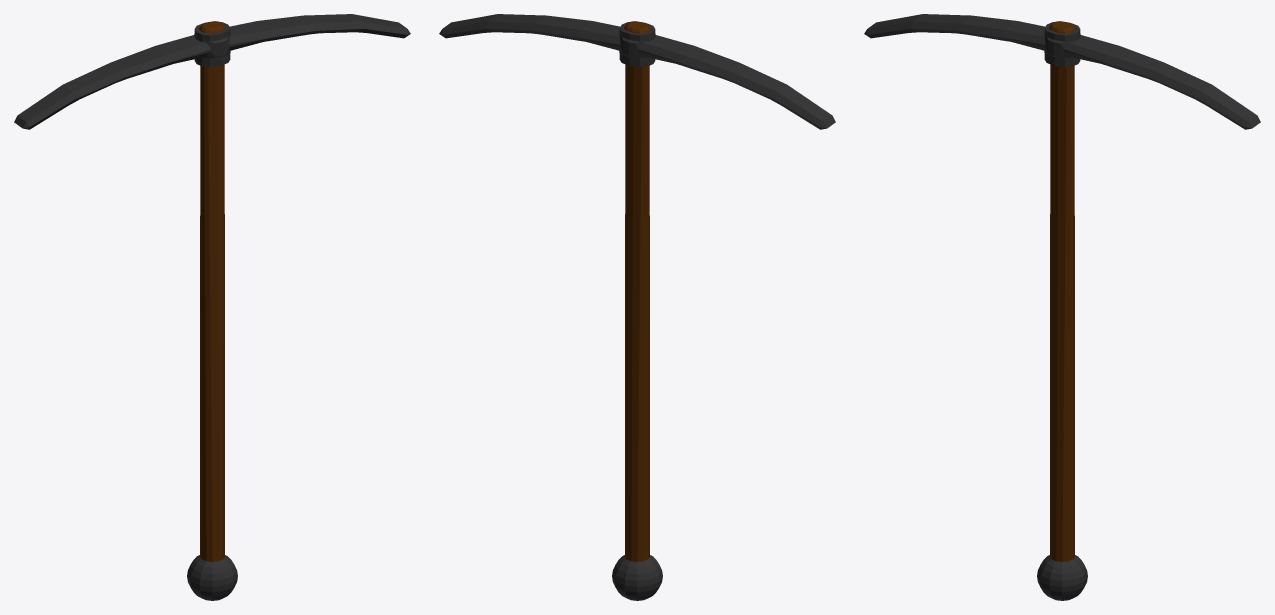
File: MetalPickaxe.fbx
The picture shows the model from 3 angles, left to right: view 1: azimuth 30°, elevation 25°; view 2: azimuth 150°, elevation 25°; view 3: azimuth 330°, elevation 25°; orthographic projection.
Visible parts, largest first — view 1: Sphere; view 2: Sphere; view 3: Sphere.
Part boxes in pixels (box(x1,y1,x2,y2)): Sphere: box(14, 14, 410, 600); Sphere: box(439, 14, 835, 600); Sphere: box(864, 14, 1260, 600).
Bounding box in the file's own units: 70 × 98.88 × 8.
